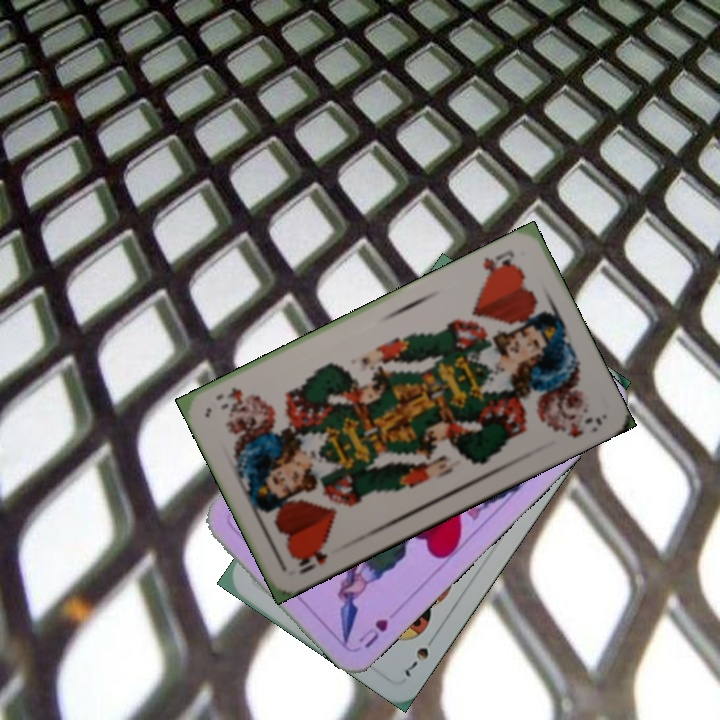HO: (479, 246, 518, 283), (292, 541, 331, 577)
HU: (354, 615, 391, 651)
S7: (400, 630, 440, 680)
